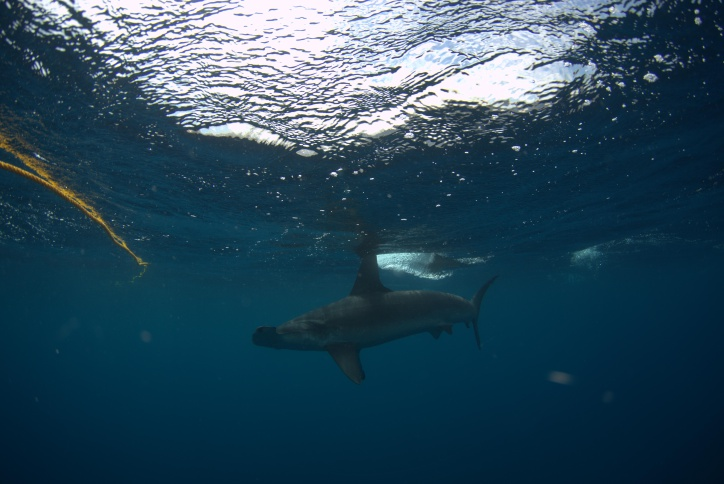Hammer: (247, 231, 516, 391)
